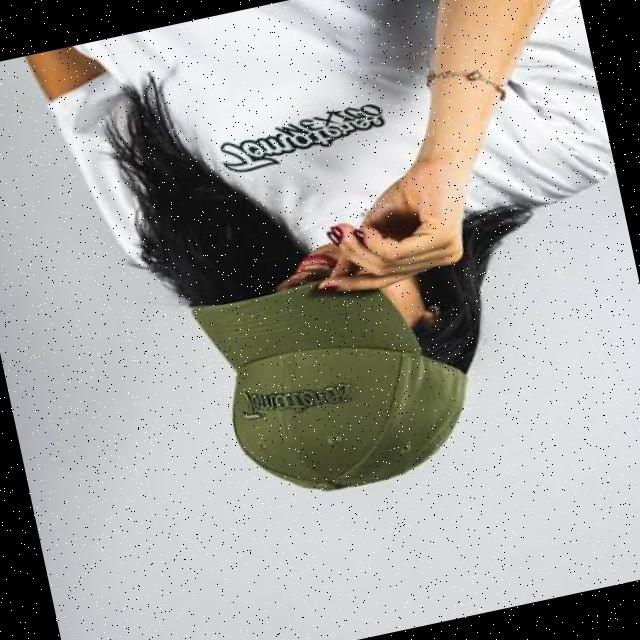Gorra: (188, 249, 489, 516)
